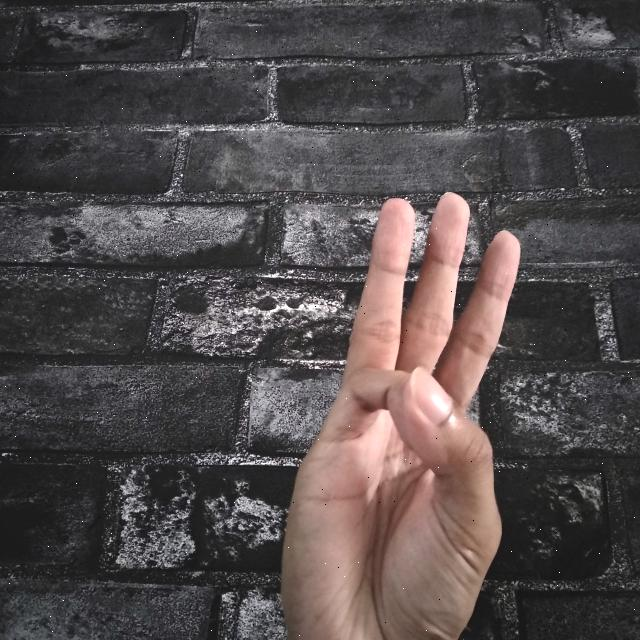W: (264, 185, 533, 640)
